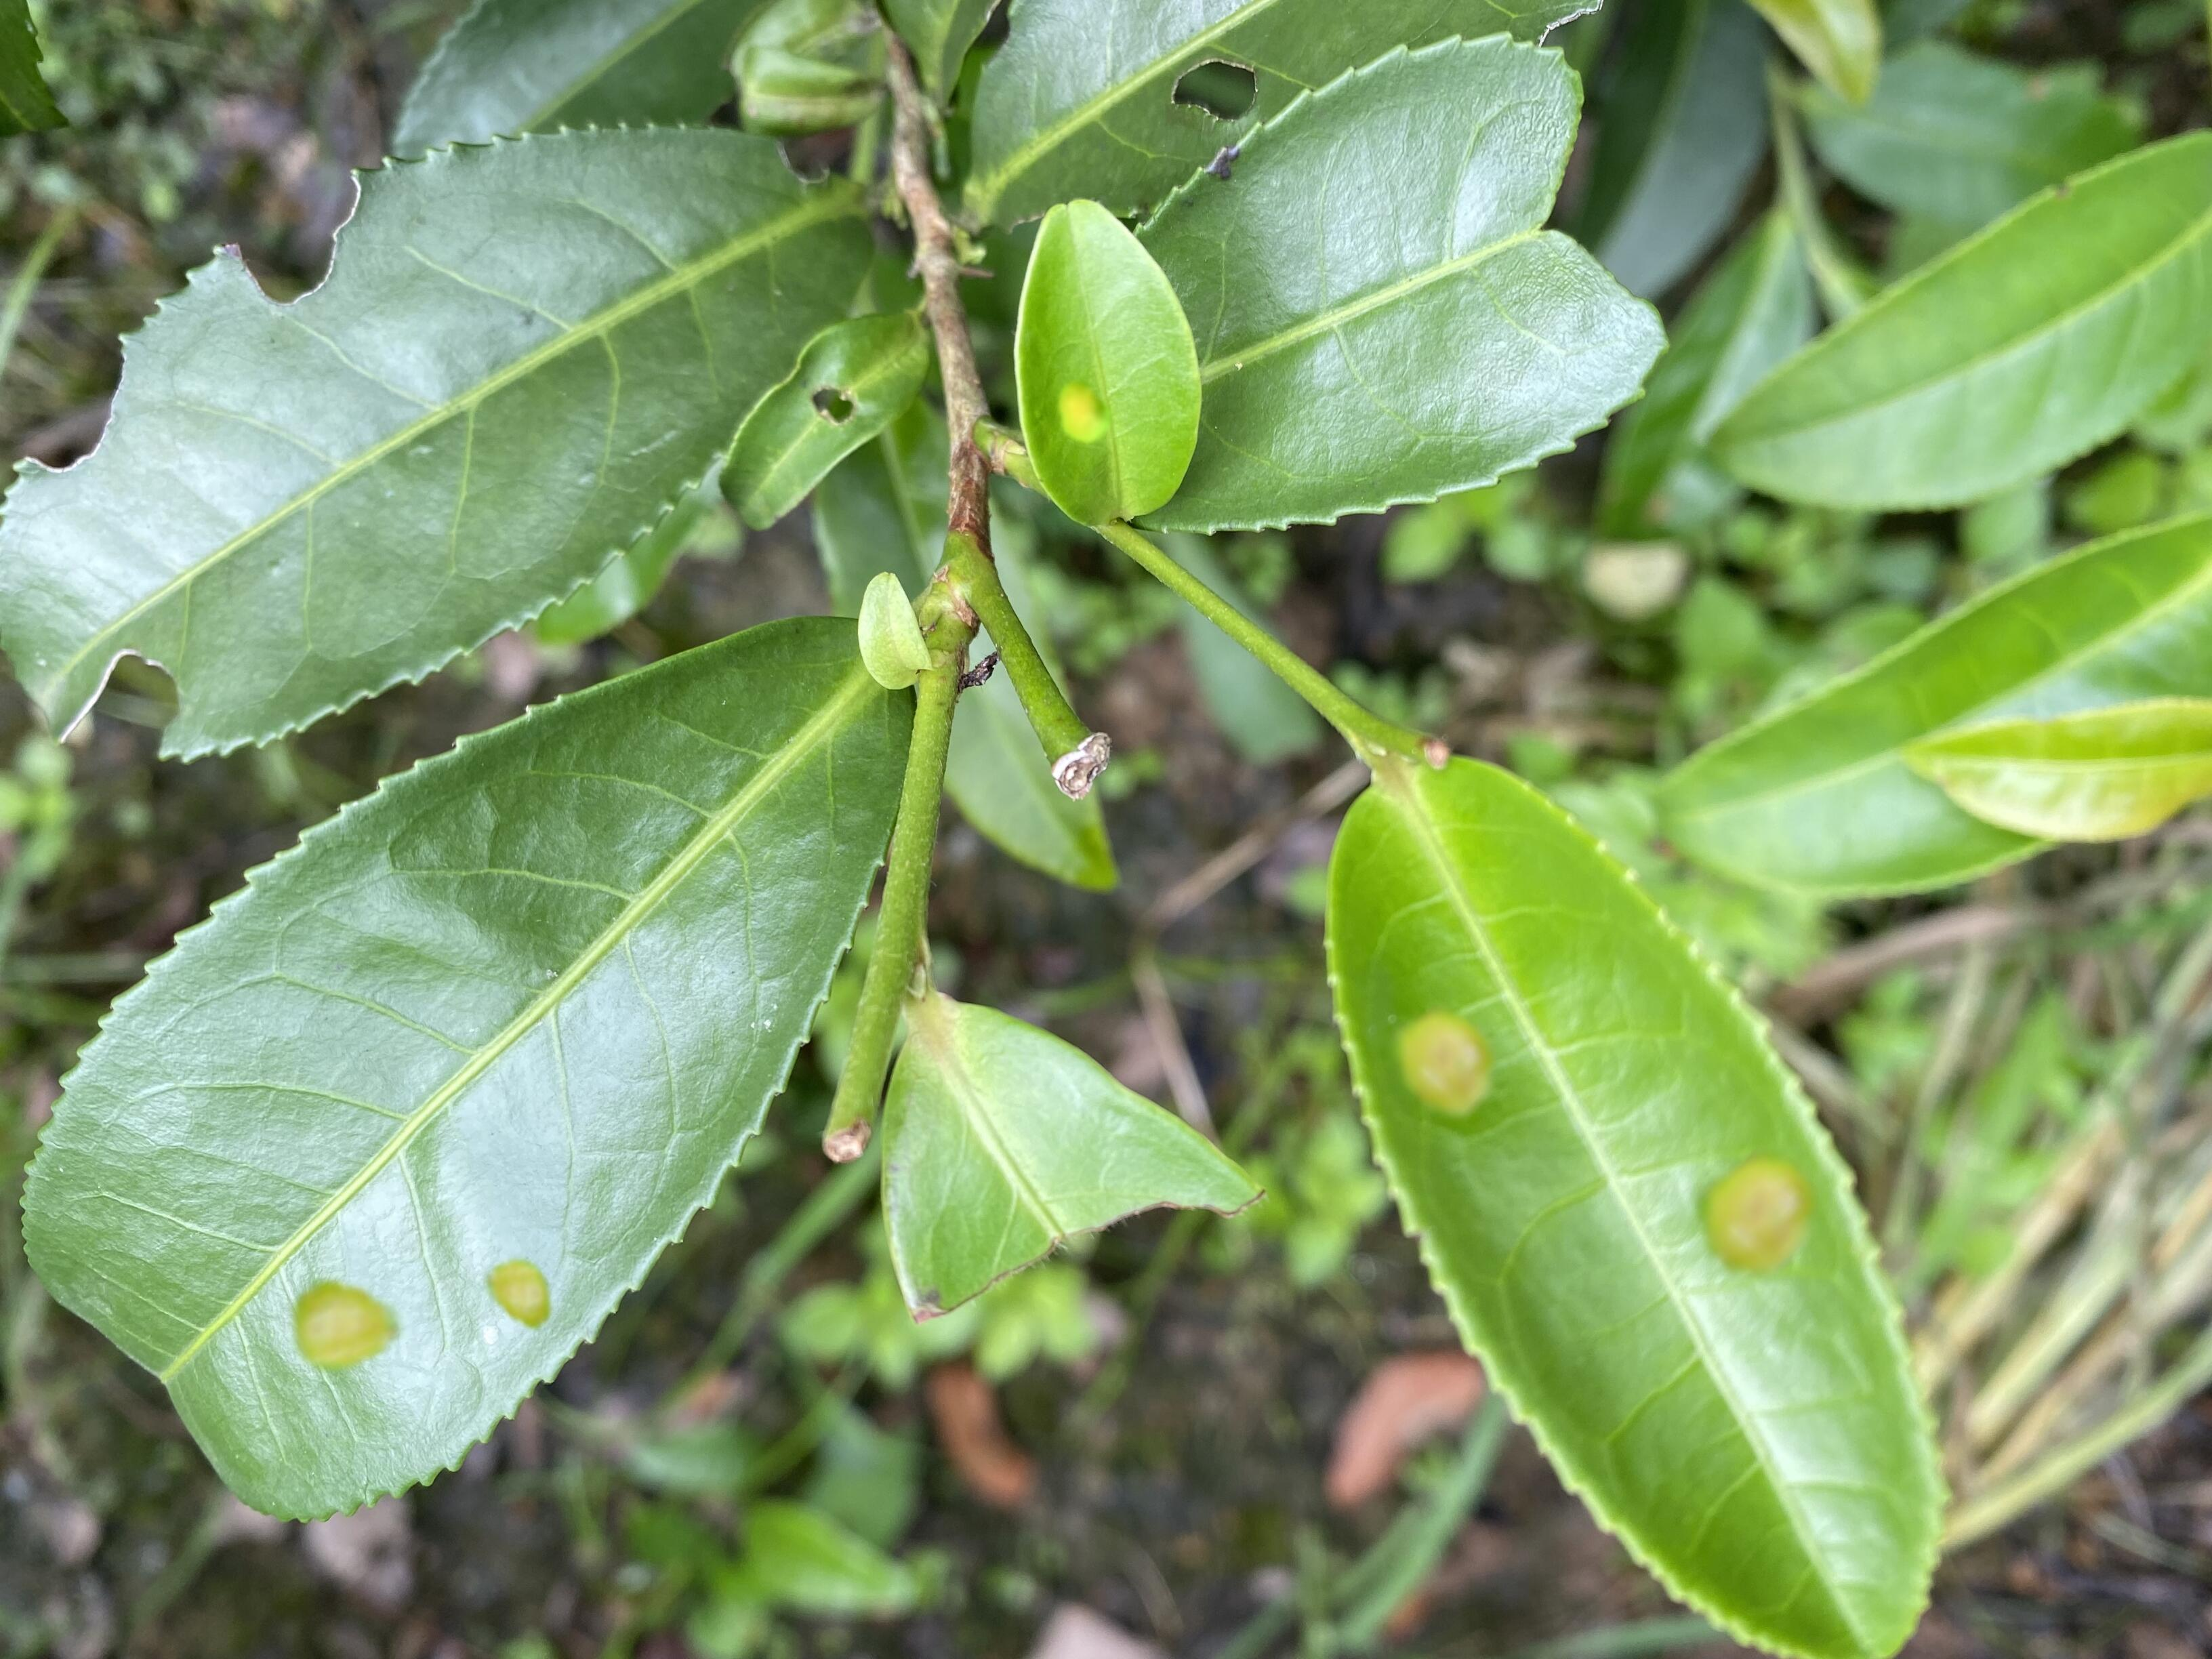chabing_high: (21, 613, 916, 1530), (1329, 755, 1949, 1656)
chabing_low: (1015, 197, 1200, 532)
chihuo_high: (3, 124, 880, 767), (1132, 35, 1676, 530), (880, 1000, 1271, 1321)
chihuo_low: (965, 3, 1606, 220), (719, 305, 925, 535)
healthy: (1707, 122, 2212, 511)
